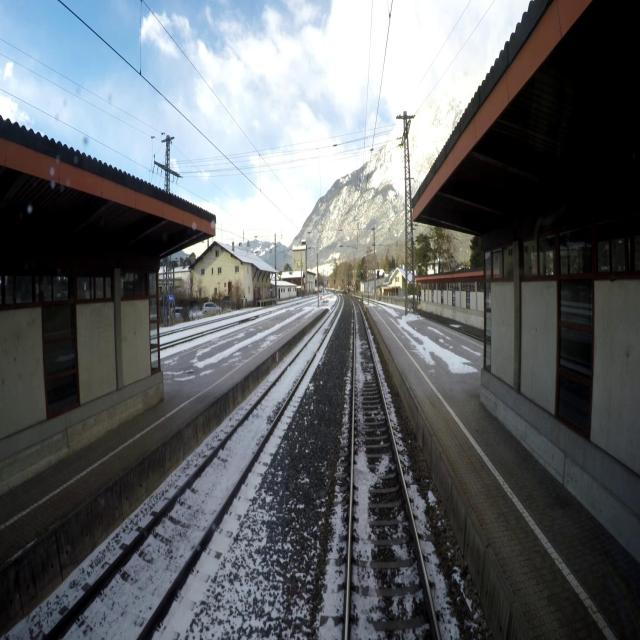rail-track: (51, 296, 341, 639), (349, 299, 436, 639)
